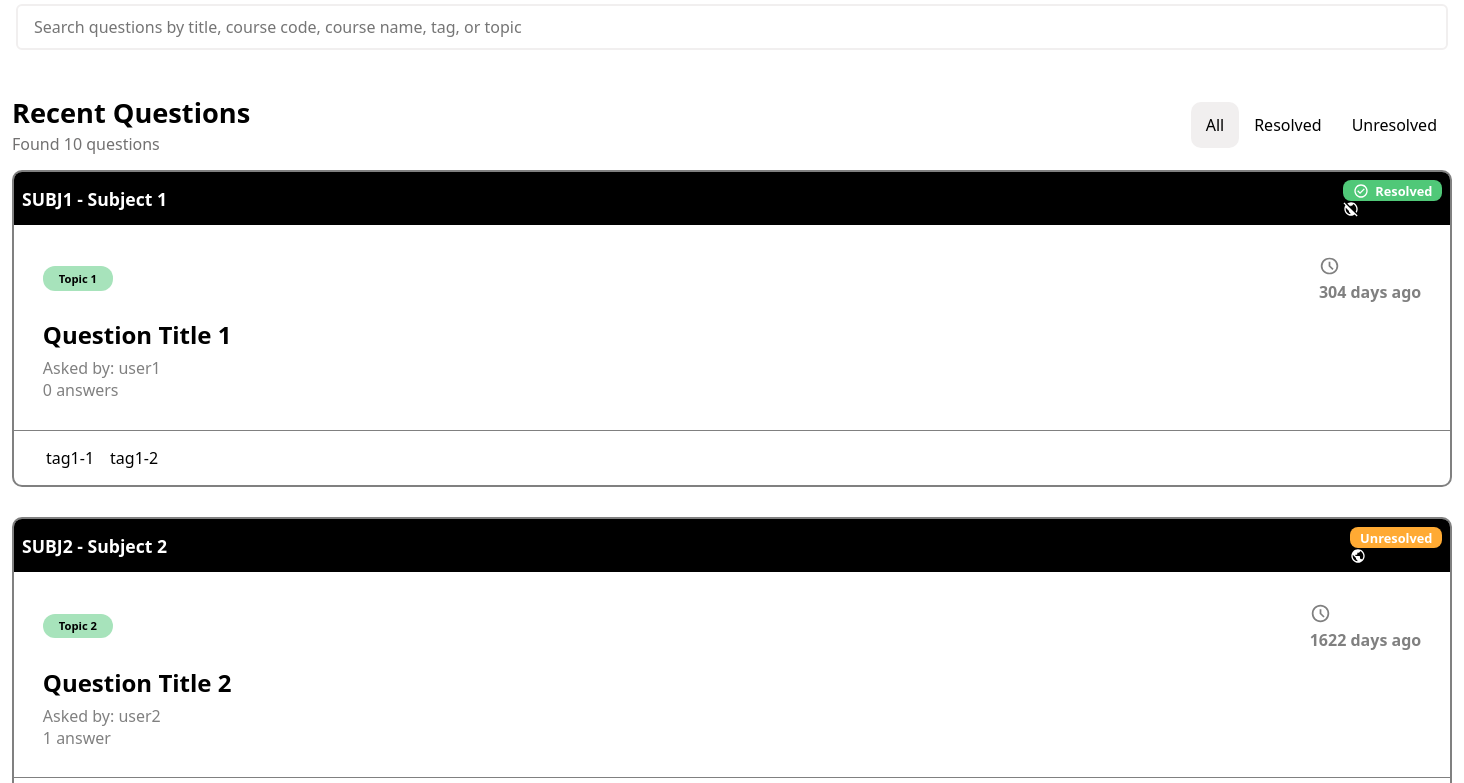
it: QuestionFinder › when clicking a Subject Filter, Topic Filters and questions for that subject is shown
Replace the text in the search field with placeholder "Search questions by title, course code, course name, tag, or topic" with "subj" at (732,27), box [16,4,1448,50]
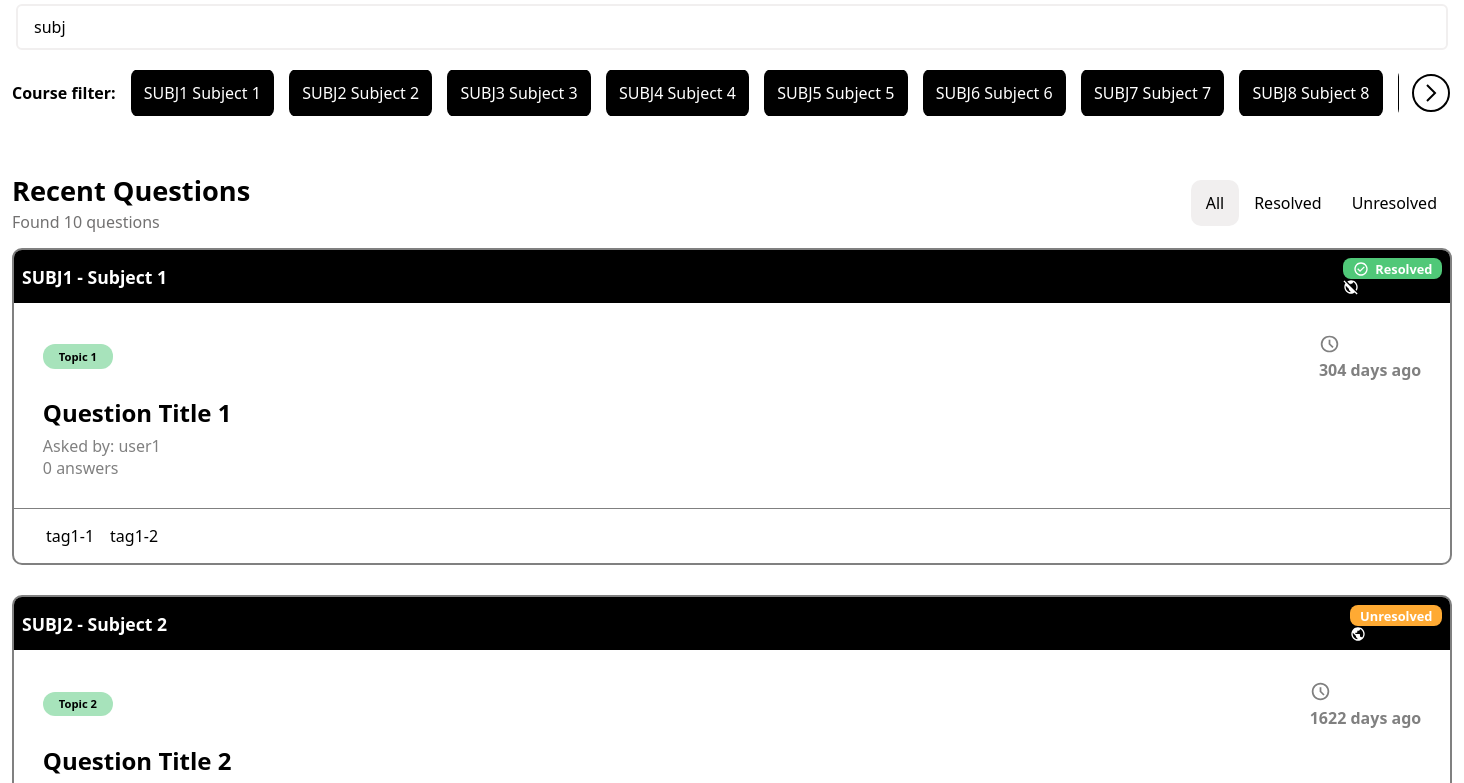
Click the button "SUBJ1 Subject 1" at (202,93), box [131,69,274,117]
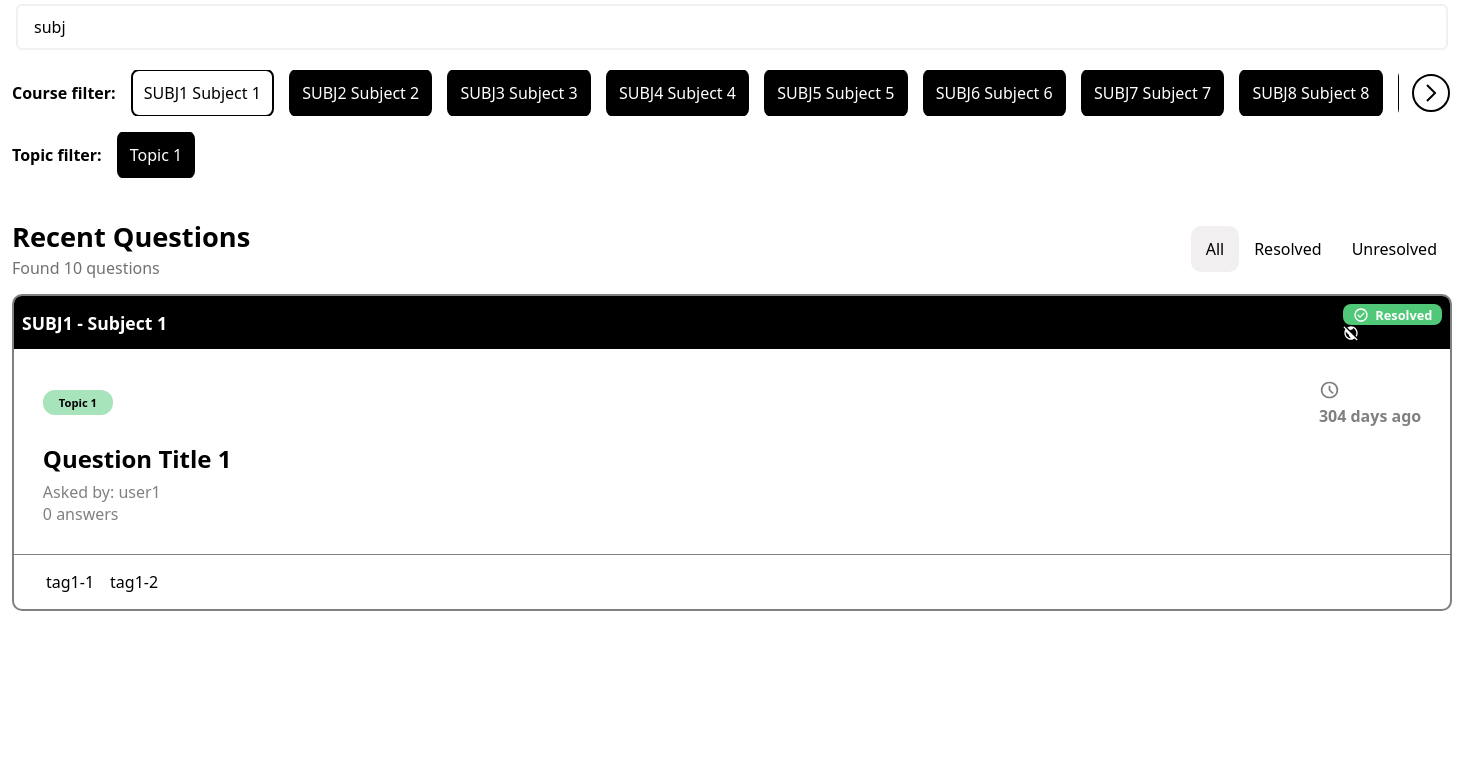
expect the button with test id "filterButton-Topic 1" reads "Topic 1": met, box [117,132,195,178]
expect the number of buttons "Topic 1" is 2: met, box [117,132,195,178]; [43,390,113,415]
